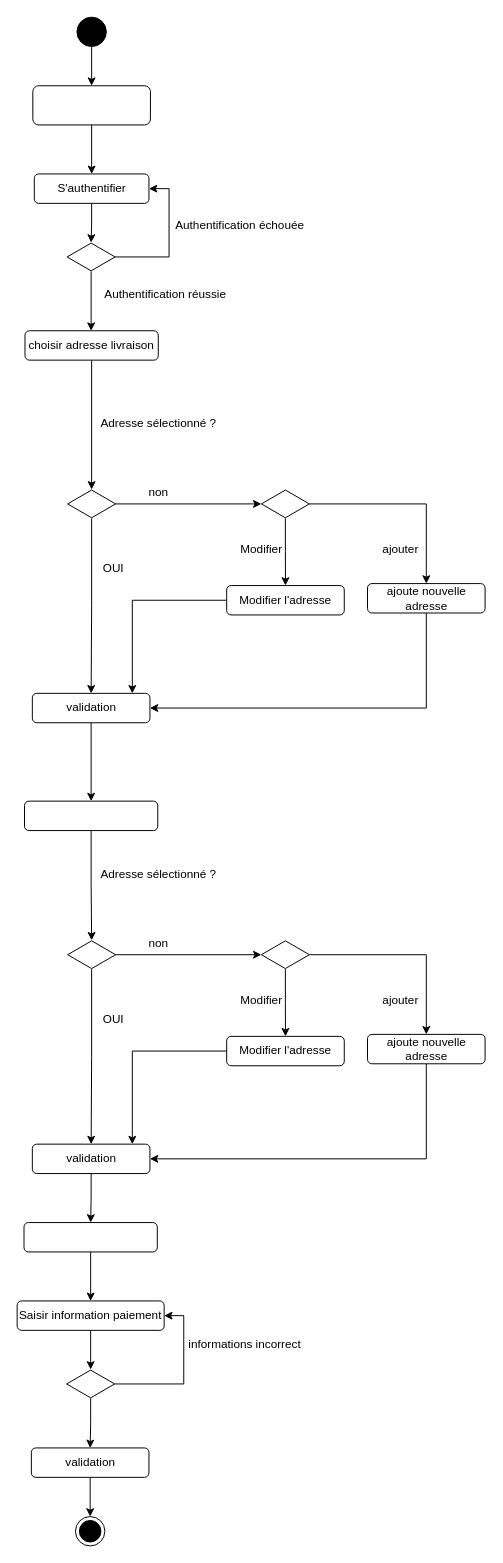
Some shapes in this 503 by 1563 pixel diagram are drawn without their labels. Here are the shapes that lost their labels. From the top down, the box of each, then its label:
(32, 85, 150, 125): Commander
(24, 800, 158, 831): choisir adresse facturation
(23, 1222, 157, 1252): choisir mode paiement
